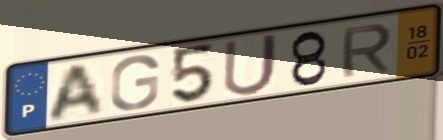5: (170, 40, 217, 106)
8: (288, 29, 328, 88)
A: (46, 60, 108, 124)
G: (108, 53, 162, 112)
R: (338, 22, 395, 80)
U: (221, 31, 282, 99)
